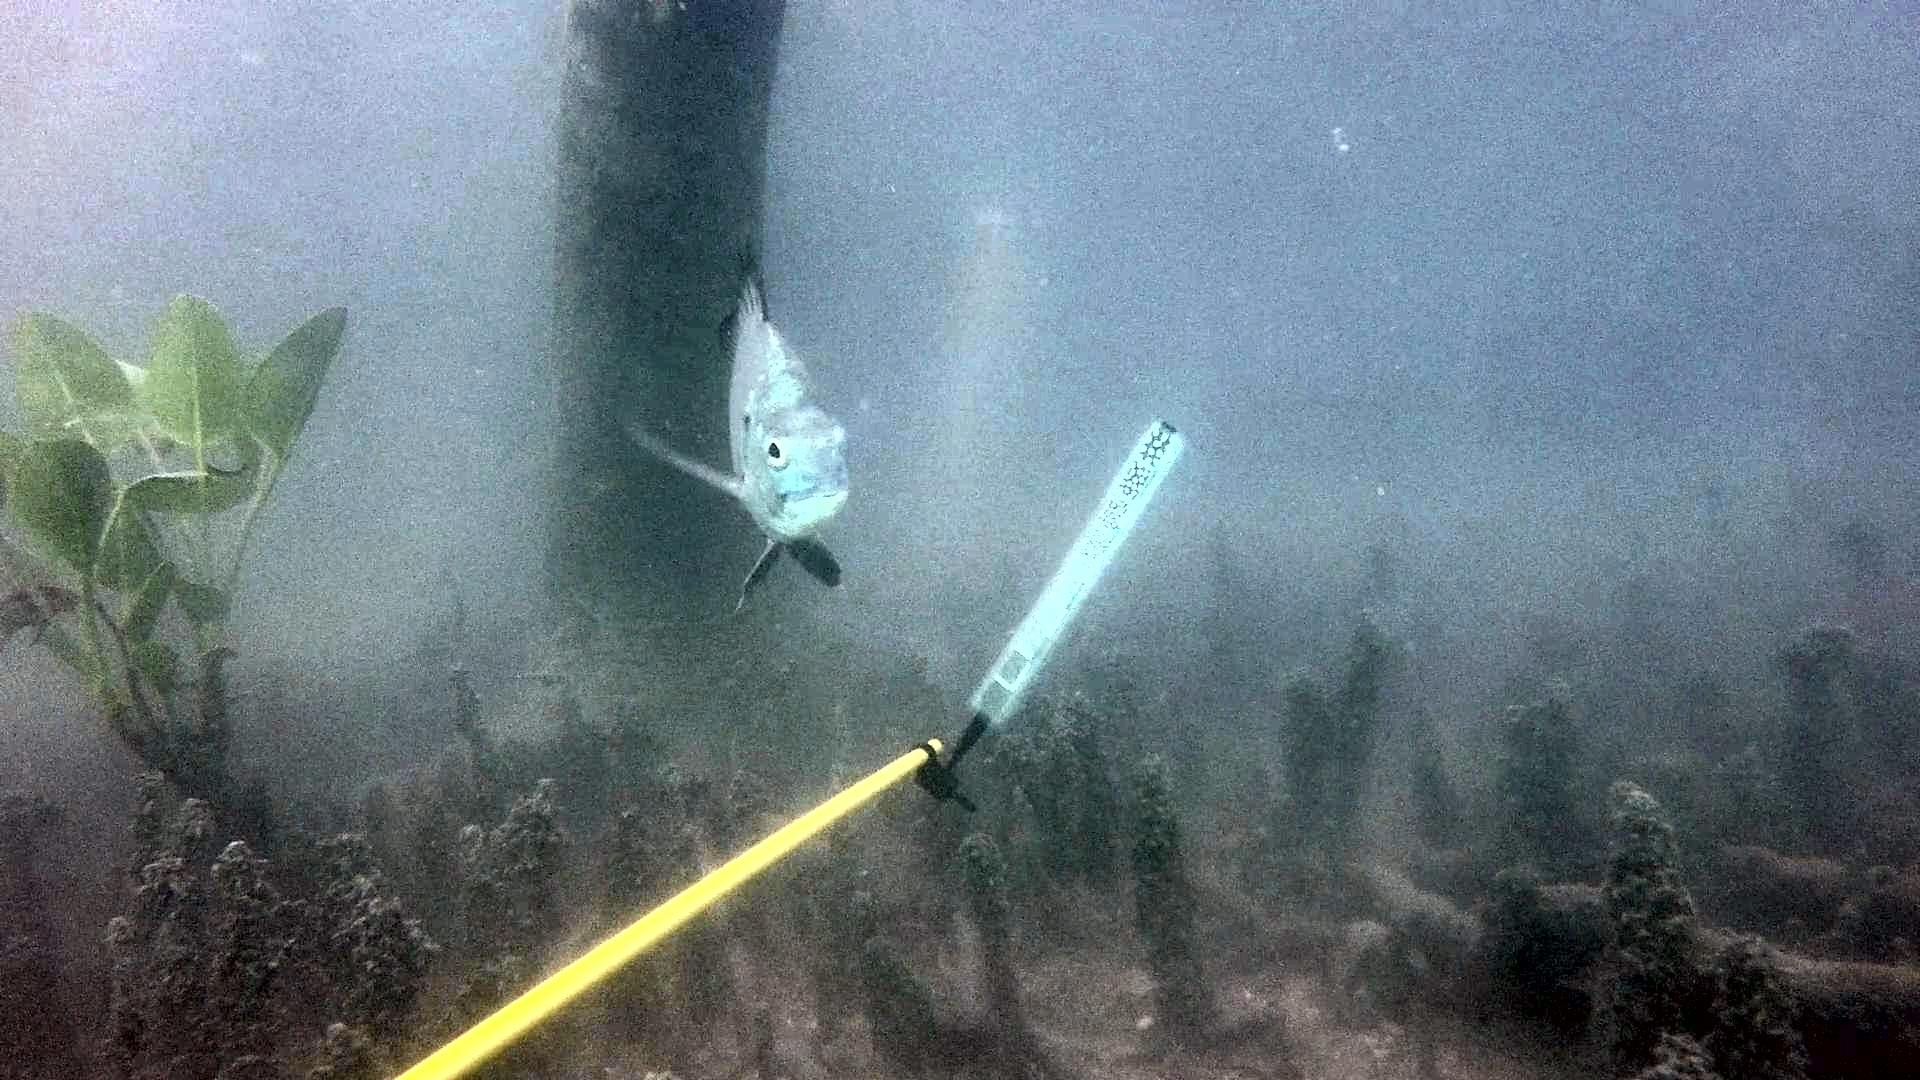acanthopagrus palmaris: (615, 231, 857, 615)
